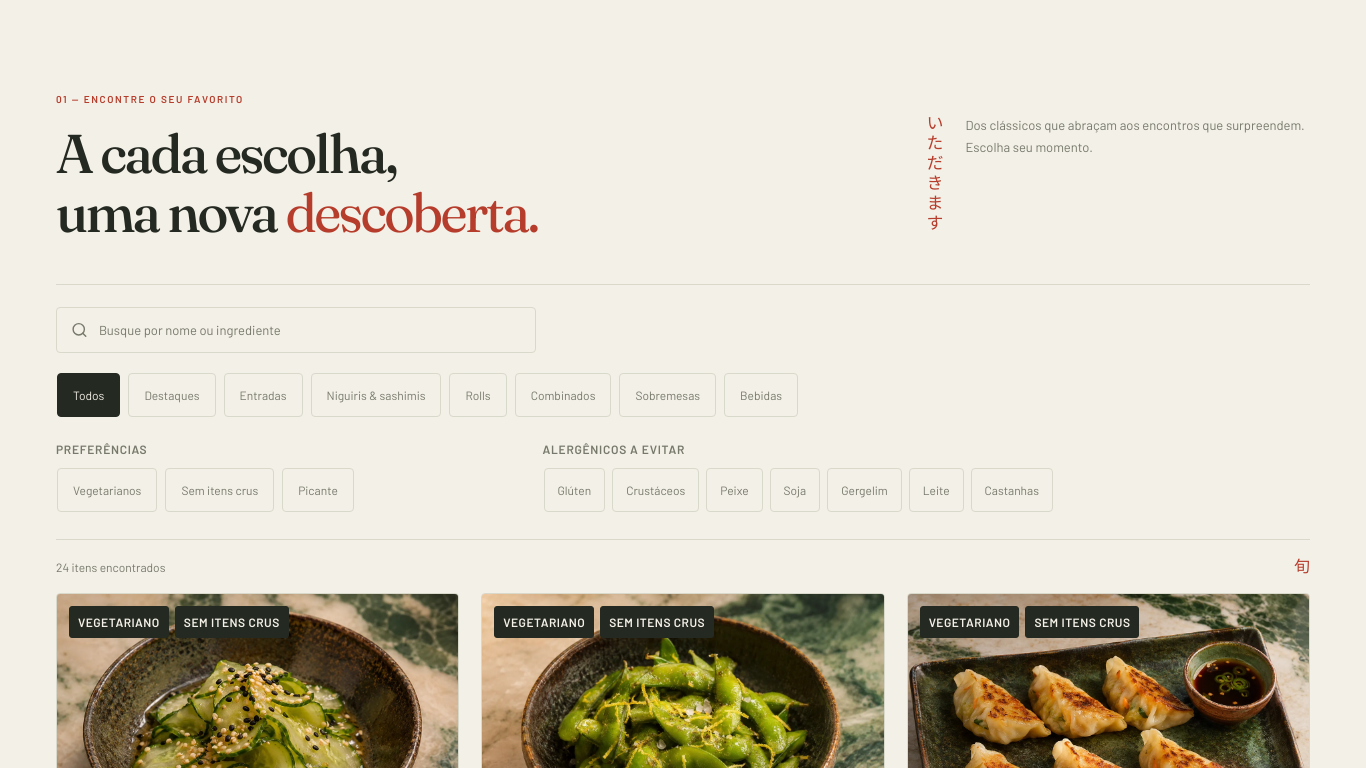
Test case: DigitalMenu › mostra os três pratos editoriais ao selecionar Destaques
Click the button "Destaques" at (172, 395), box [128,373,216,417]
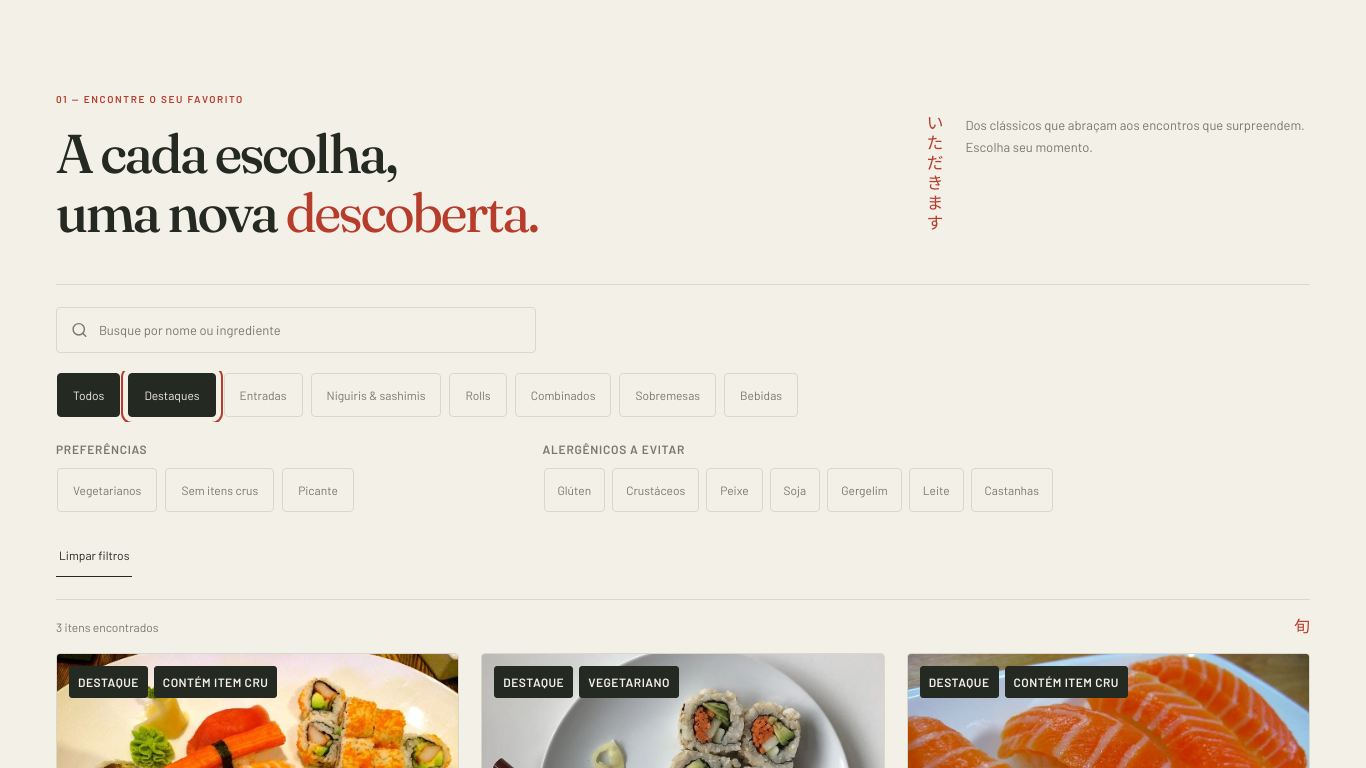
expect the message reads "3 itens encontrados": met, box [56,620,159,634]
